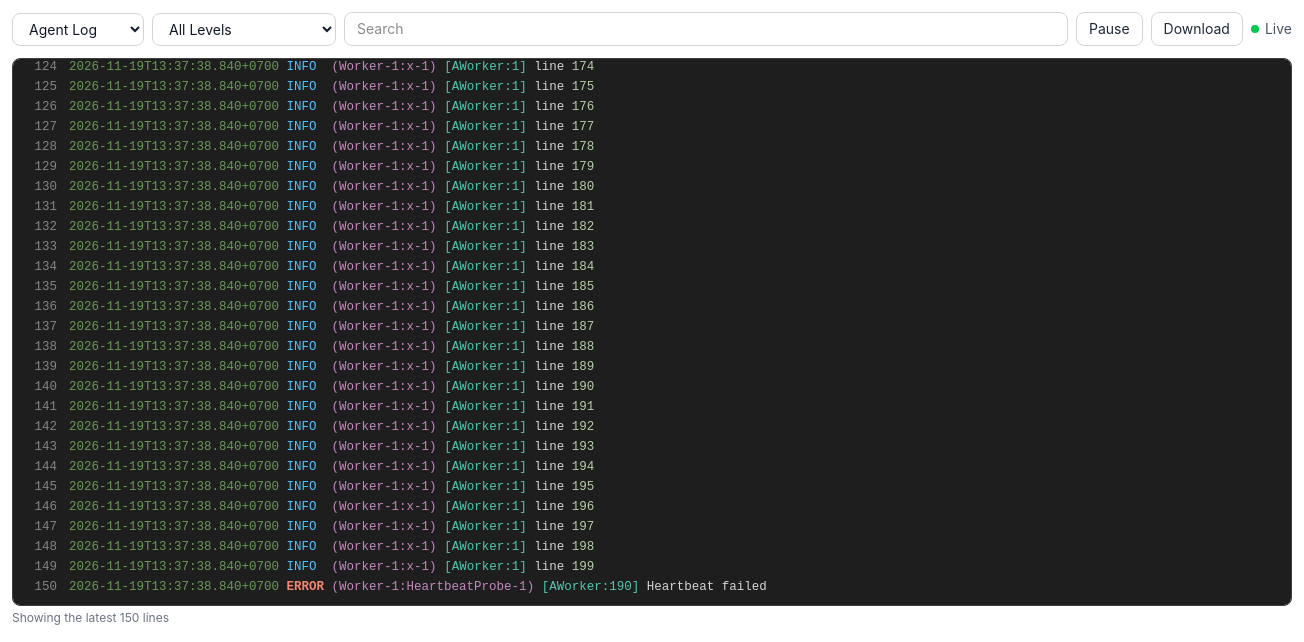
Test: LogTab › shows the latest 150 lines with gutter numbers, levels, search marks and glossary labels
The width and height of the screenshot is (1304, 642).
Later steps or results of the test are not shown.
(page scrolled)
Expected: the text "150" is shown, [34,580,57,594]
Expected: the text "ERROR" is shown, [287,580,324,594]
Click the button "Pause".
click(1109, 29)  # box [1076,12,1142,46]
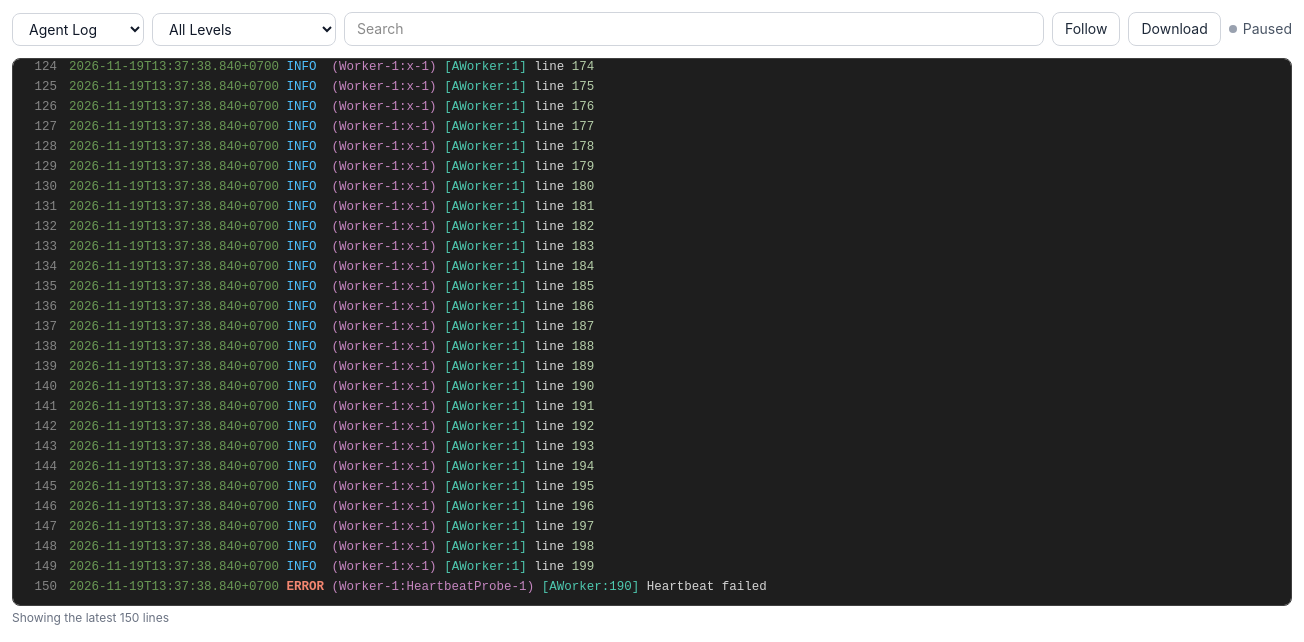
Result: the button "Follow" is shown at [1052,12,1120,46]
Result: the text "Paused" is shown at [1229,19,1292,39]
